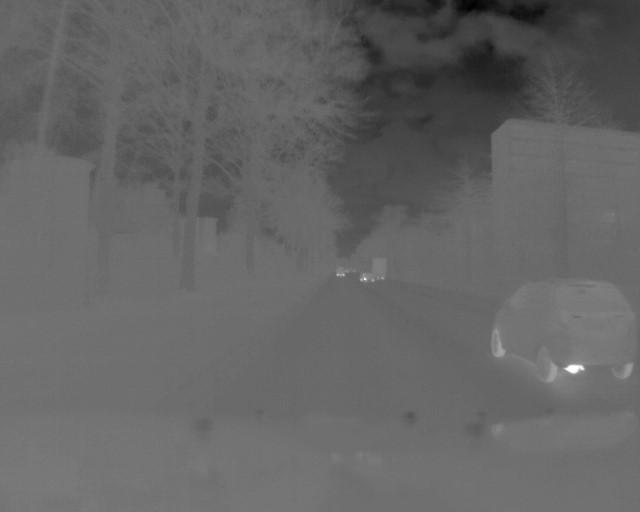car: (485, 274, 640, 389)
